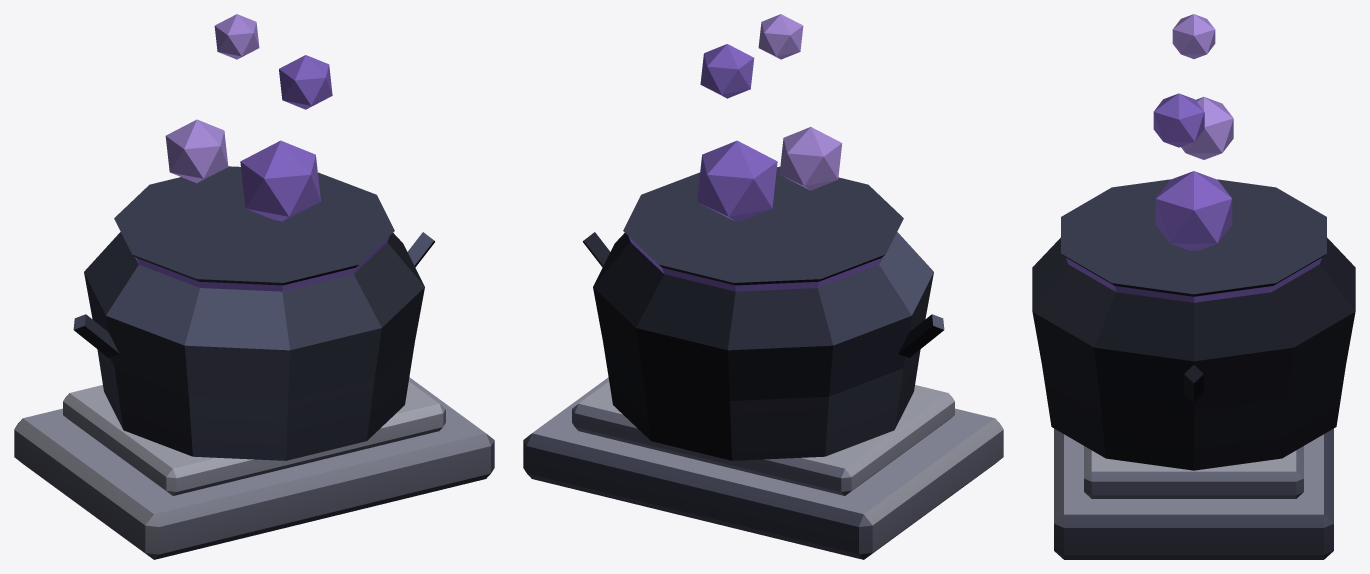
Rendered from gym_top_poison.glb.
3 renders of one model, left to right at view 1: azimuth 30°, elevation 25°; view 2: azimuth 150°, elevation 25°; view 3: azimuth 270°, elevation 25°, orthographic.
Visible parts, largest first — view 1: gym_top_poison; view 2: gym_top_poison; view 3: gym_top_poison.
Boxes of the visible parts, left/top/right/bottom form: gym_top_poison: left=14, top=14, right=494, bottom=559; gym_top_poison: left=523, top=14, right=1003, bottom=559; gym_top_poison: left=1032, top=14, right=1355, bottom=559.
Bounding box in the file's own units: 0.8283 × 1.01 × 0.6467.
